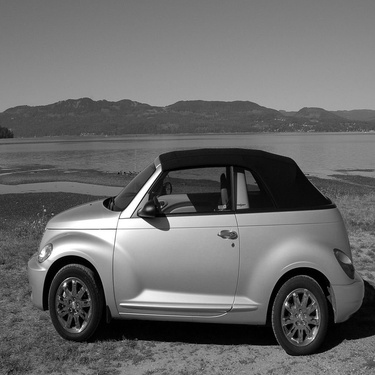car: (27, 139, 368, 361)
